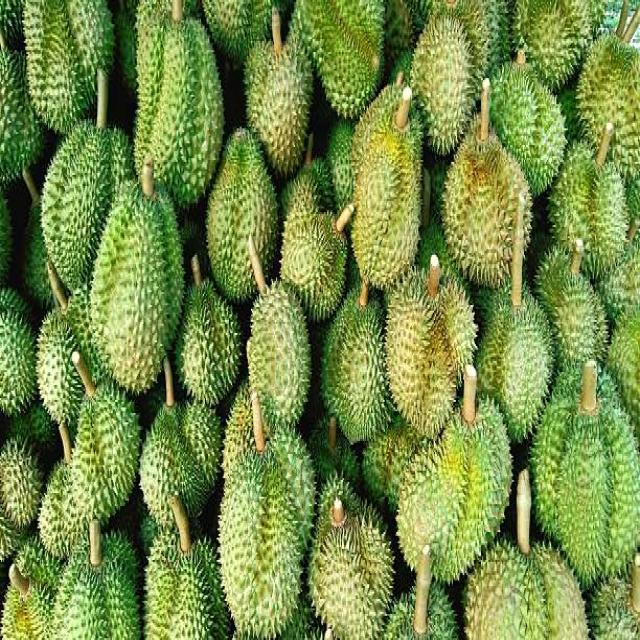immature: (528, 360, 640, 595), (397, 392, 514, 585), (88, 181, 186, 399), (129, 0, 224, 208), (208, 443, 304, 637), (382, 264, 478, 442), (37, 117, 133, 291), (442, 113, 532, 293), (308, 466, 396, 637), (203, 127, 279, 305), (543, 126, 630, 280), (349, 108, 422, 290), (319, 280, 399, 443), (483, 55, 567, 208), (477, 282, 555, 434), (139, 396, 224, 534), (410, 2, 483, 156), (240, 33, 314, 182), (70, 380, 140, 534), (248, 276, 312, 433), (171, 274, 243, 404), (281, 206, 349, 324)
